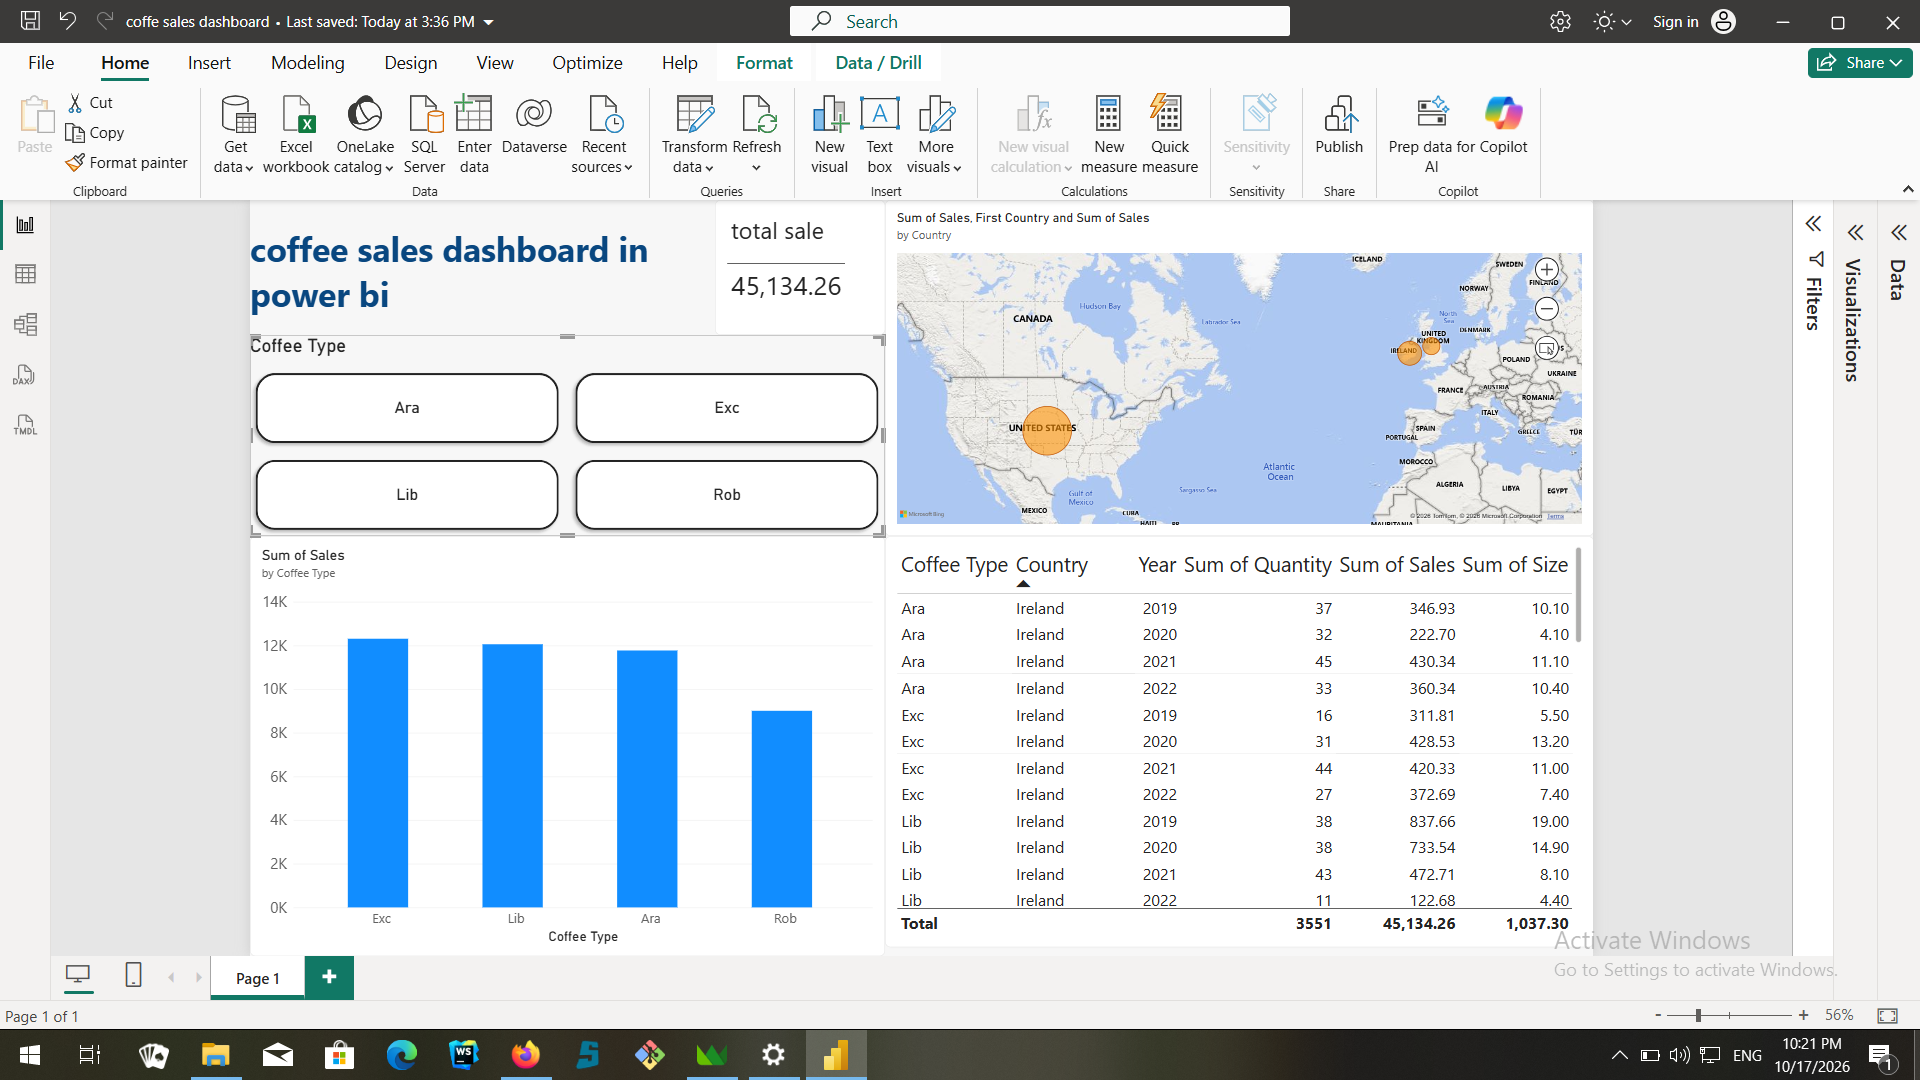

The page's visual inventory and layout, read from the dashboard file:
{"tool":"powerbi","page":{"name":"Page 1","canvas":[1920,1080],"ordinal":0},"visuals":[{"type":"map","fields":{"Category":["orders.Country"],"Size":["Sum(orders.Sales)"]},"box":[907.1,0,1012.5,480.4],"z":0},{"type":"columnChart","fields":{"Category":["orders.Coffee Type"],"Y":["Sum(orders.Sales)"]},"box":[0,480.4,907.1,600],"z":1},{"type":"tableEx","fields":{"Values":["orders.Coffee Type","orders.Country","orders.Order Date.Variation.Date Hierarchy.Year","Sum(orders.Quantity)","Sum(orders.Sales)","Sum(orders.Size)"]},"box":[907.1,480.4,1012.5,587.5],"z":2},{"type":"advancedSlicerVisual","fields":{"Values":["orders.Coffee Type"]},"box":[0,192.9,907.1,287.5],"z":3},{"type":"textbox","box":[0,0,664.3,192.9],"z":4},{"type":"tableEx","fields":{"Values":["orders.total sale"]},"box":[664.3,0,242.9,192.9],"z":5}]}

Visuals, with their boxes on the page's 1920x1080 design canvas (x1, y1, x2, y2). These are canvas units, not pixel positions in the 1920x1080 screenshot, which may show the page scaled, cropped or inside an application window:
map - orders.Country x Sum(orders.Sales): l=907, t=0, r=1920, b=480
columnChart - orders.Coffee Type x Sum(orders.Sales): l=0, t=480, r=907, b=1080
tableEx - orders.Coffee Type x orders.Country: l=907, t=480, r=1920, b=1068
advancedSlicerVisual - orders.Coffee Type: l=0, t=193, r=907, b=480
textbox: l=0, t=0, r=664, b=193
tableEx - orders.total sale: l=664, t=0, r=907, b=193
